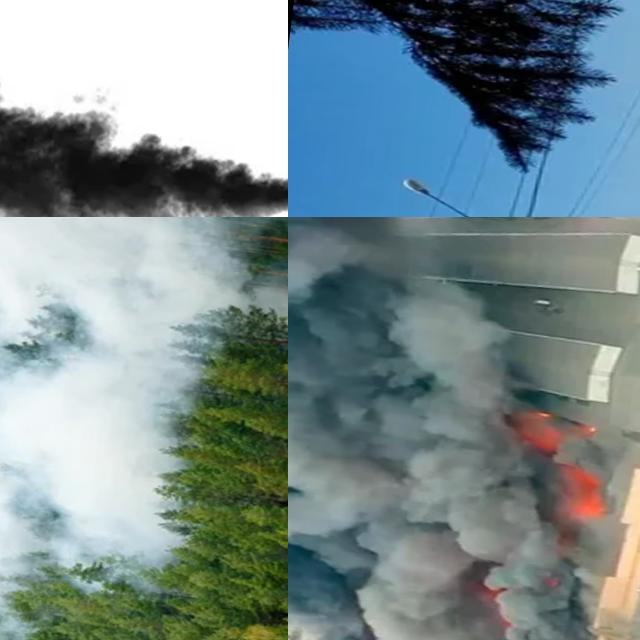smoke: (288, 217, 640, 640), (0, 299, 217, 640), (0, 10, 288, 217), (0, 217, 288, 347), (288, 159, 640, 217)
